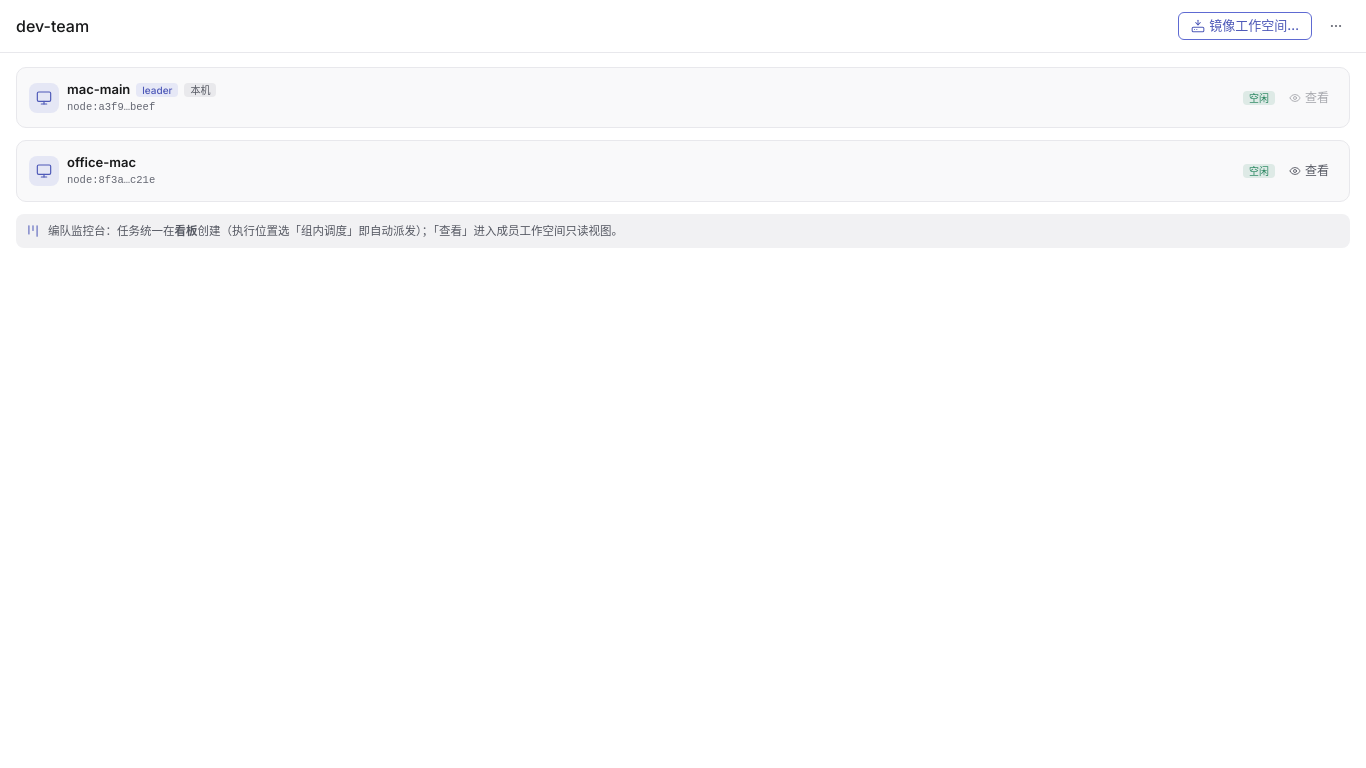
Test: WorkgroupView 查看链路（T4：S3b 选择器 + S4 全宽查看态） › 节点卡「查看」→ 选择器弹窗 → 选中空间后主区整体切 RemoteViewPane →「退出查看」回监控态
Click the button "查看" in the row of "8f3a…c21e". click: (1309, 171)
box: [1281,159,1337,183]
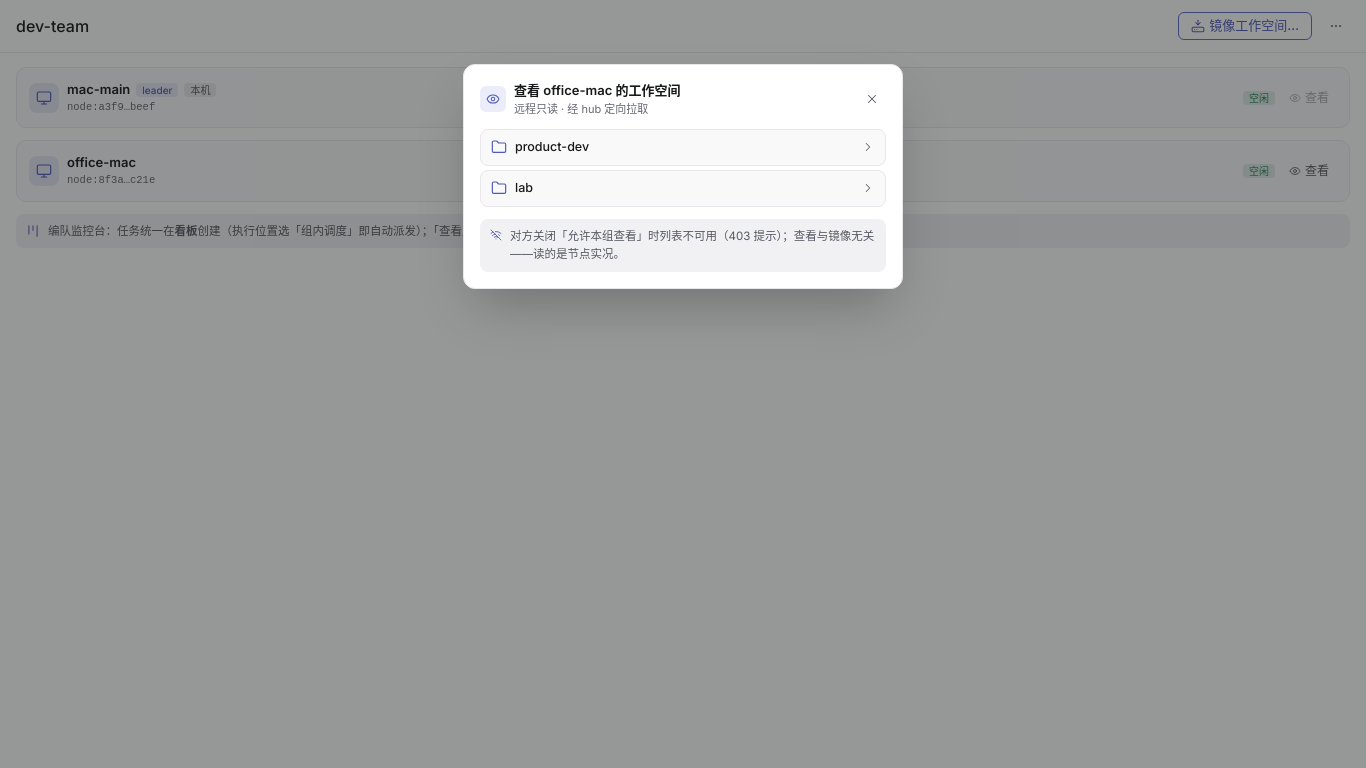
Click the button with aria-label "选择工作空间 lab". click: (499, 188)
box: [480,170,886,207]
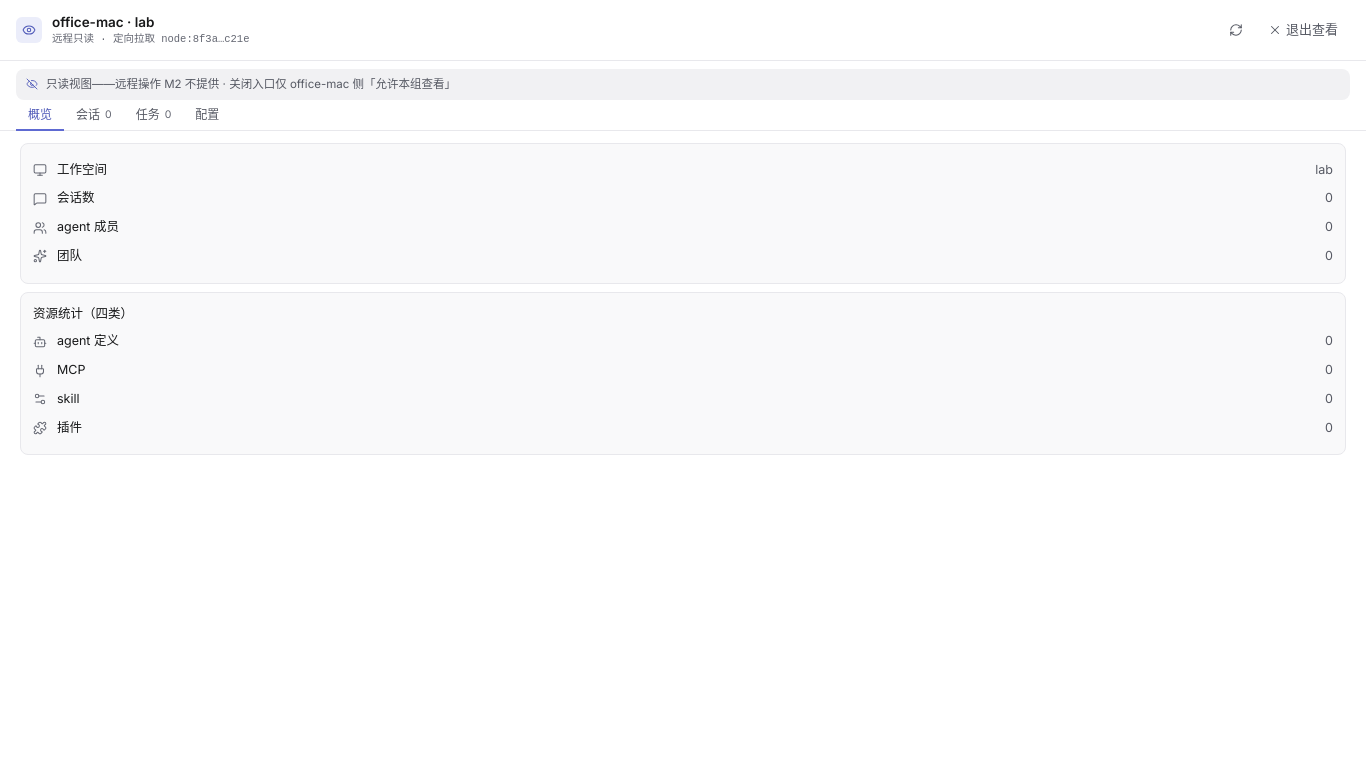
expect the tab "概览" is shown: met, box [16,100,64,131]
退出查看回监控态
Click the button "退出查看". click: (1303, 30)
box: [1256,16,1350,44]
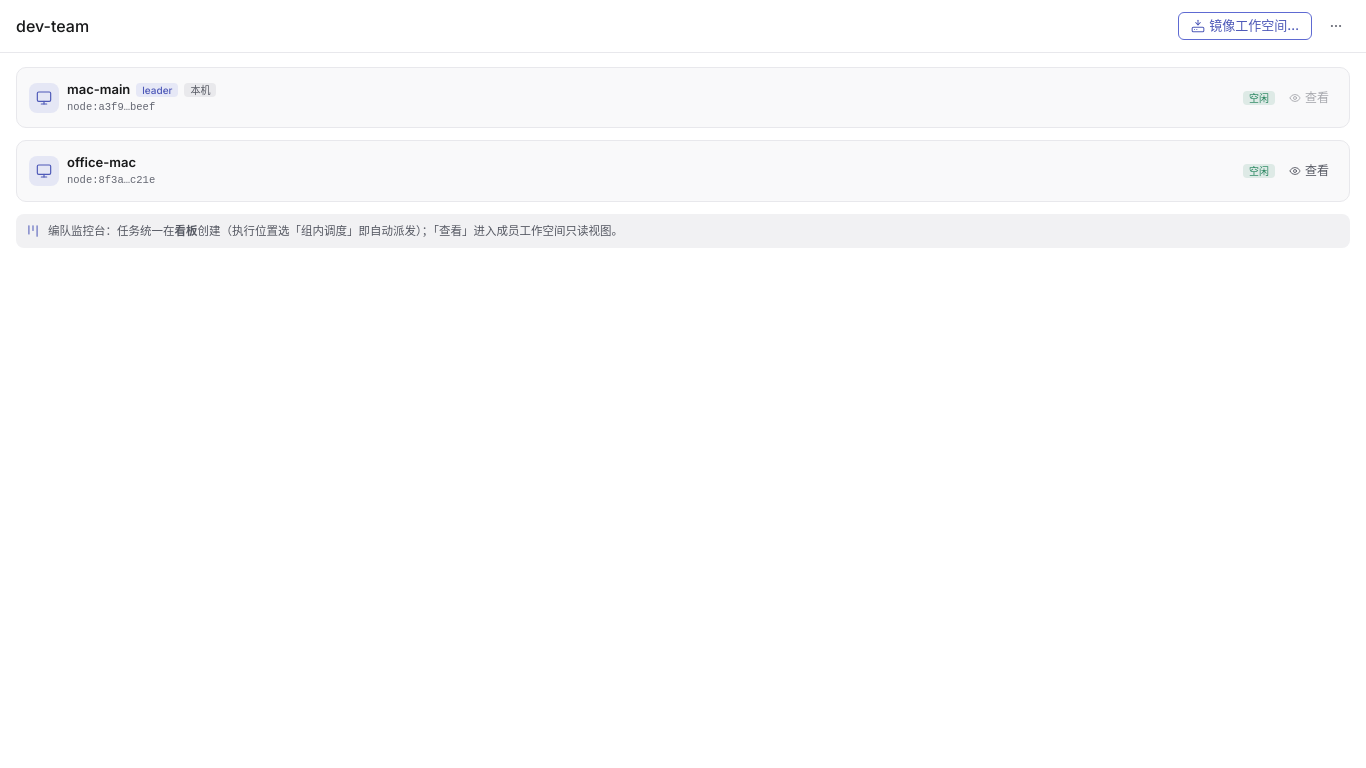
expect the element named "节点 office-mac" is shown: met, box [16,140,1350,202]
